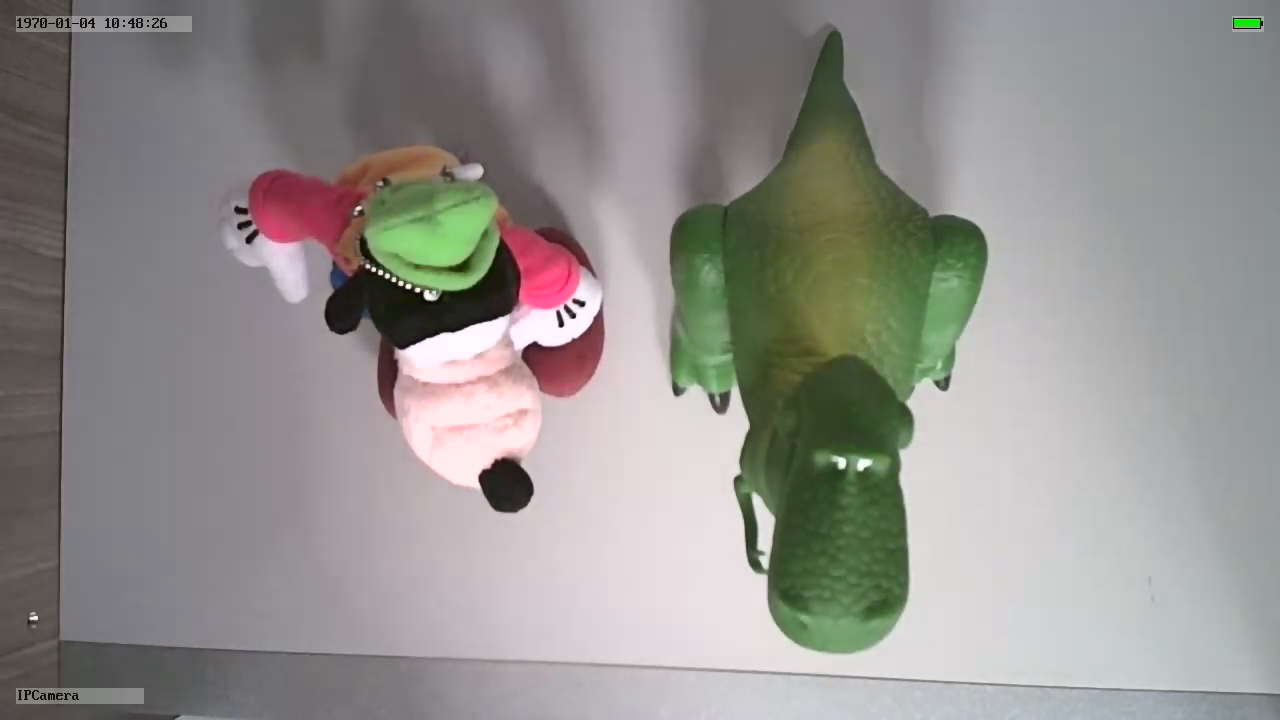goofy: (211, 141, 612, 516)
